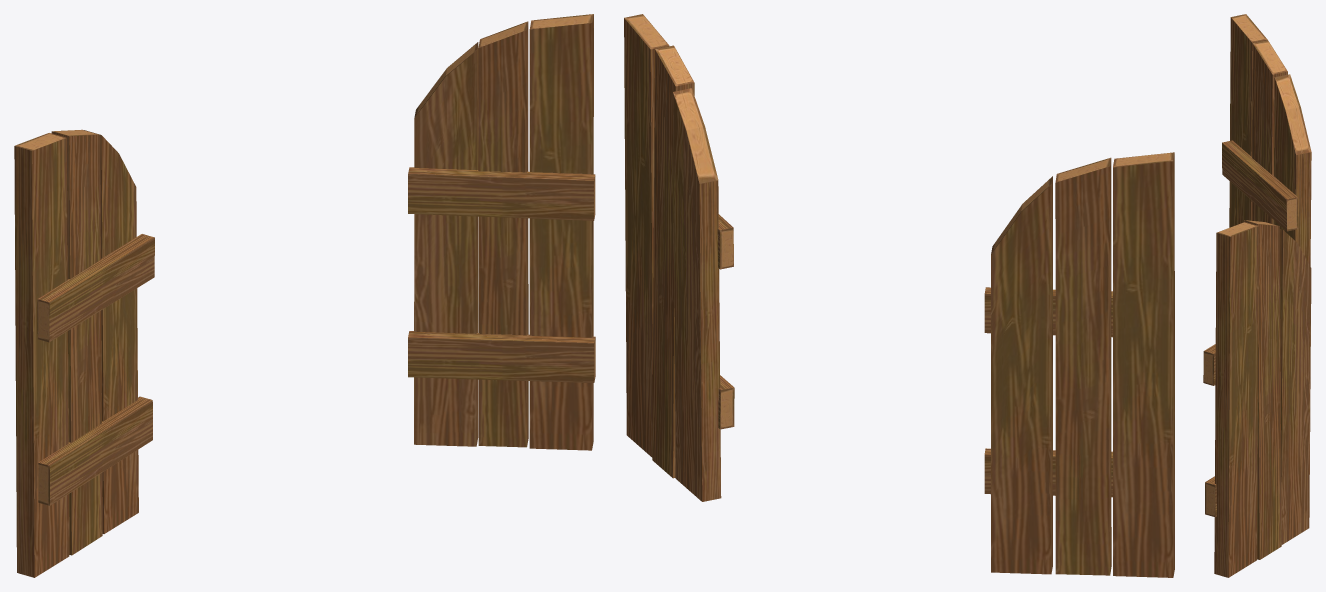
Rendered from window_shutters.glb.
3 renders of one model, left to right at view 1: azimuth 30°, elevation 25°; view 2: azimuth 150°, elevation 25°; view 3: azimuth 270°, elevation 25°, orthographic. The views are drawn at different scales.
Parts seen in each view (by area): view 1: WindowShutters_Wide_Round_Open; view 2: WindowShutters_Wide_Round_Open; view 3: WindowShutters_Wide_Round_Open.
Boxes of the visible parts, x1,y1,x2,y2 form: WindowShutters_Wide_Round_Open: [14, 14, 595, 577]; WindowShutters_Wide_Round_Open: [624, 14, 1174, 577]; WindowShutters_Wide_Round_Open: [1203, 14, 1311, 577].
Size of the model in its own units: 2.3 by 1.65 by 0.4724.
Materials: 1 (1 with a texture image).
